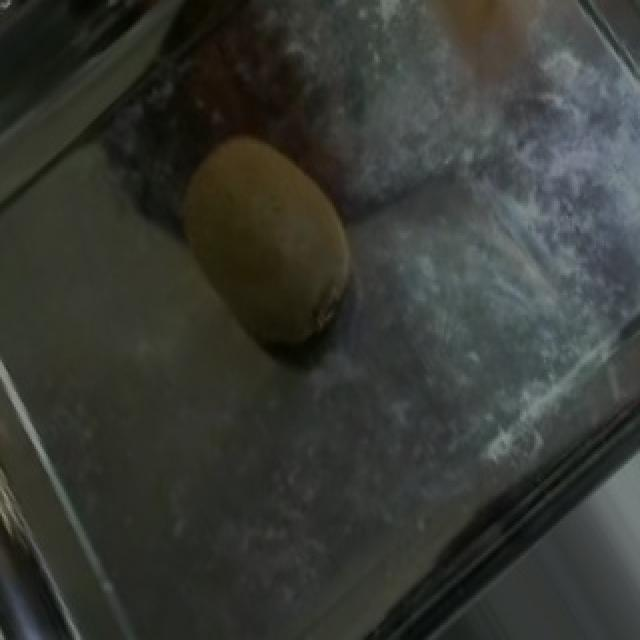Fruit: (138, 102, 394, 387)
